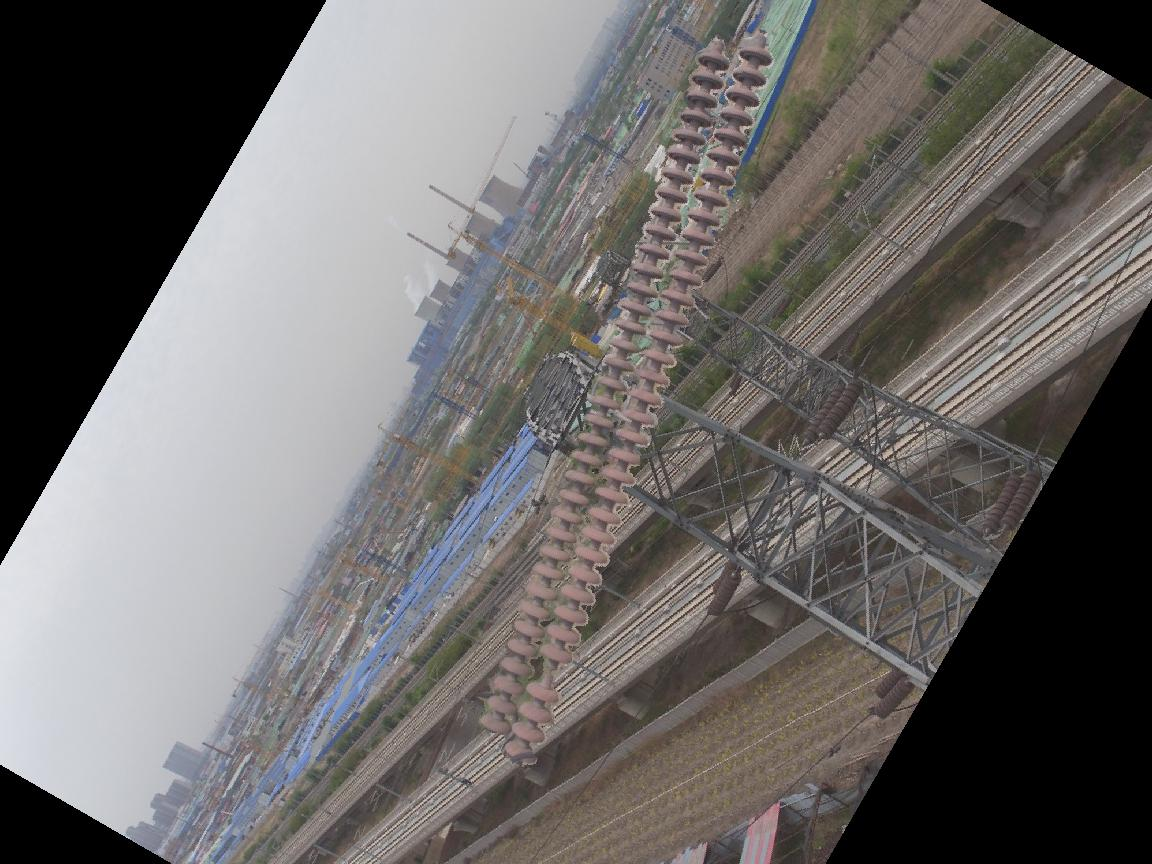insulator: (476, 36, 785, 764), (978, 463, 1046, 538), (800, 374, 865, 443), (865, 661, 918, 721), (698, 564, 743, 619)
insulator_stringdrop: (523, 640, 577, 709)
